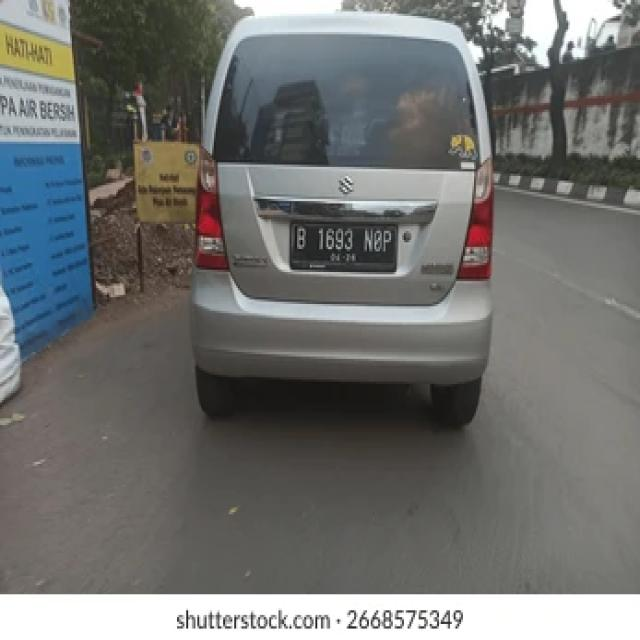seat: (338, 170, 354, 199)
